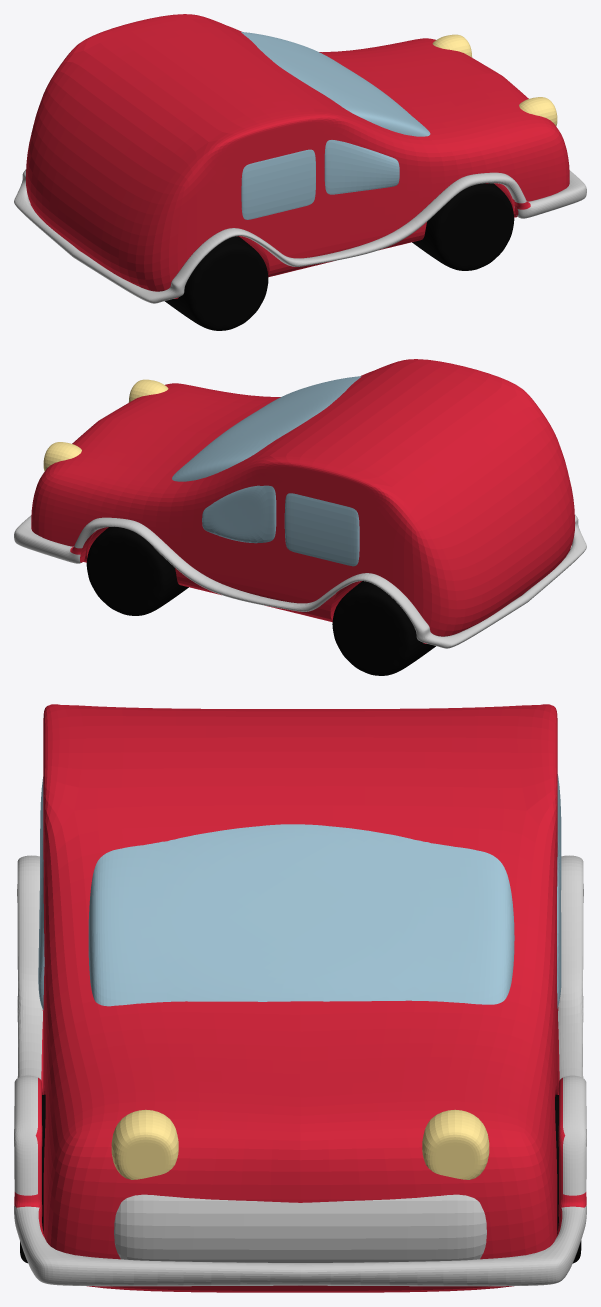
The model's file is voiture2.fbx.
3 views of the same model, one above another, from view 1: azimuth 30°, elevation 25°; view 2: azimuth 150°, elevation 25°; view 3: azimuth 270°, elevation 25° (orthographic). The views are drawn at different scales.
Visible parts, largest first — view 1: carrrosserie, roue, parebrise, Cube.003, Cube.002; view 2: carrrosserie, roue, parebrise, Cube, Cube.001; view 3: carrrosserie, parebrise, roue, Cube.002.
Boxes of the visible parts, x1,y1,x2,y2 form: carrrosserie: [14, 14, 586, 303]; roue: [165, 183, 514, 330]; parebrise: [241, 32, 430, 136]; Cube.003: [241, 149, 315, 219]; Cube.002: [324, 140, 399, 194]; carrrosserie: [14, 359, 586, 648]; roue: [86, 526, 435, 675]; parebrise: [172, 376, 361, 481]; Cube: [284, 493, 359, 566]; Cube.001: [202, 485, 276, 543]; carrrosserie: [14, 704, 586, 1292]; parebrise: [88, 824, 514, 1006]; roue: [20, 1094, 581, 1263]; Cube.002: [38, 840, 44, 1010].
Size of the model in its own units: 560 by 230 by 339.
